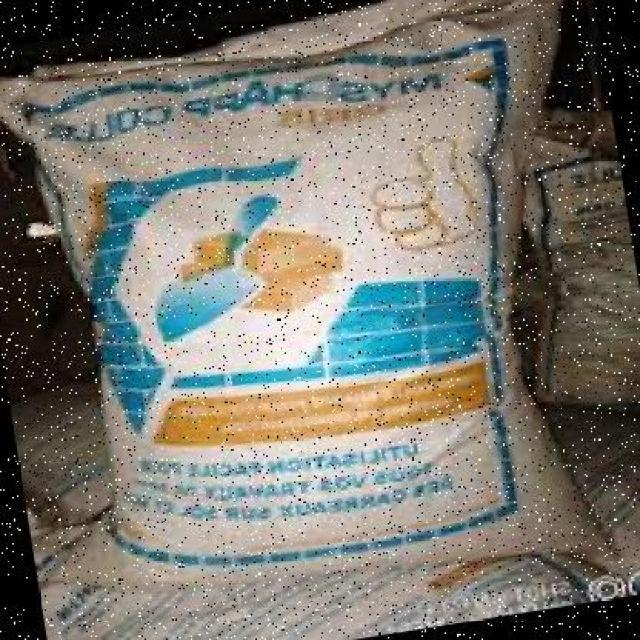gunny_bag: (0, 0, 617, 584)
